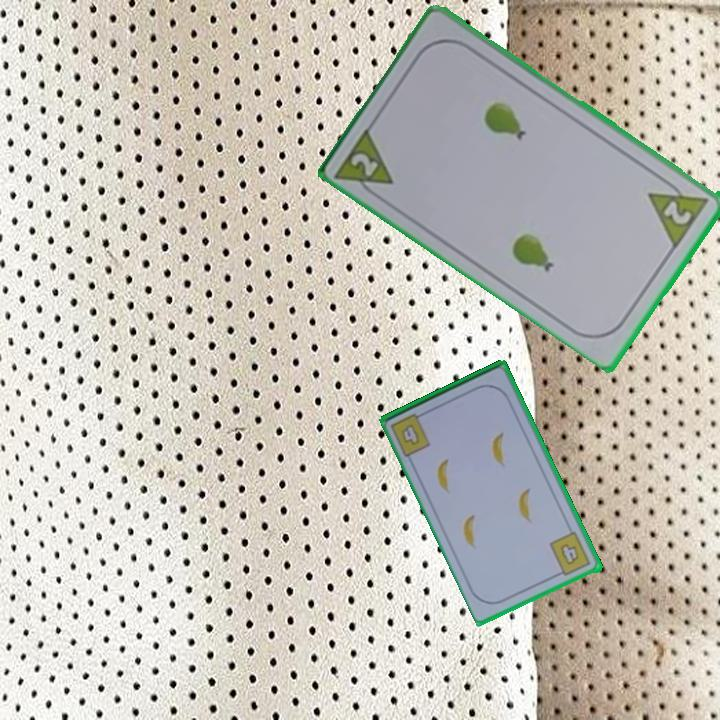2p: (660, 197, 696, 228), (347, 149, 382, 180)
4b: (546, 528, 594, 579), (398, 420, 423, 448)
